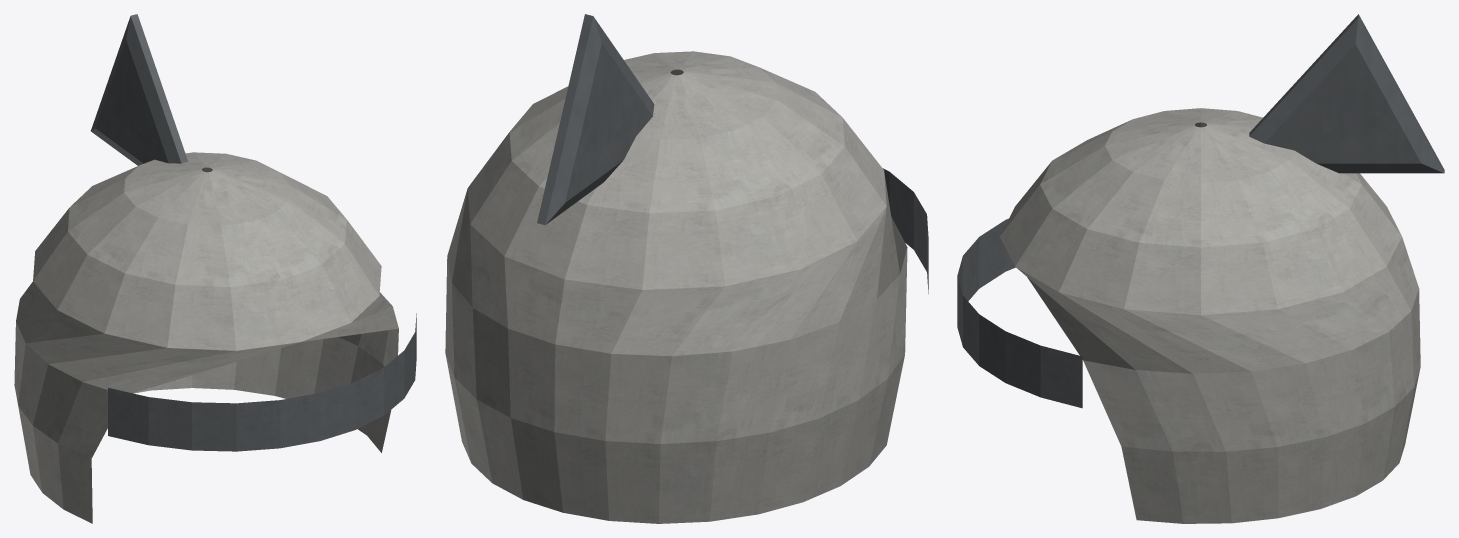
Rendered from eq_future_1_head.glb.
3 views of the same model, side by side, from view 1: azimuth 30°, elevation 25°; view 2: azimuth 150°, elevation 25°; view 3: azimuth 270°, elevation 25° (orthographic). The views are drawn at different scales.
Visible parts, largest first — view 1: eq_future_1_head; view 2: eq_future_1_head; view 3: eq_future_1_head.
Part boxes in pixels (box(x1,y1,x2,y2)): eq_future_1_head: box(14, 14, 416, 523); eq_future_1_head: box(445, 14, 928, 523); eq_future_1_head: box(957, 14, 1444, 523).
Size of the model in its own units: 0.2821 by 0.33 by 0.34.
2 materials, 2 textured.
